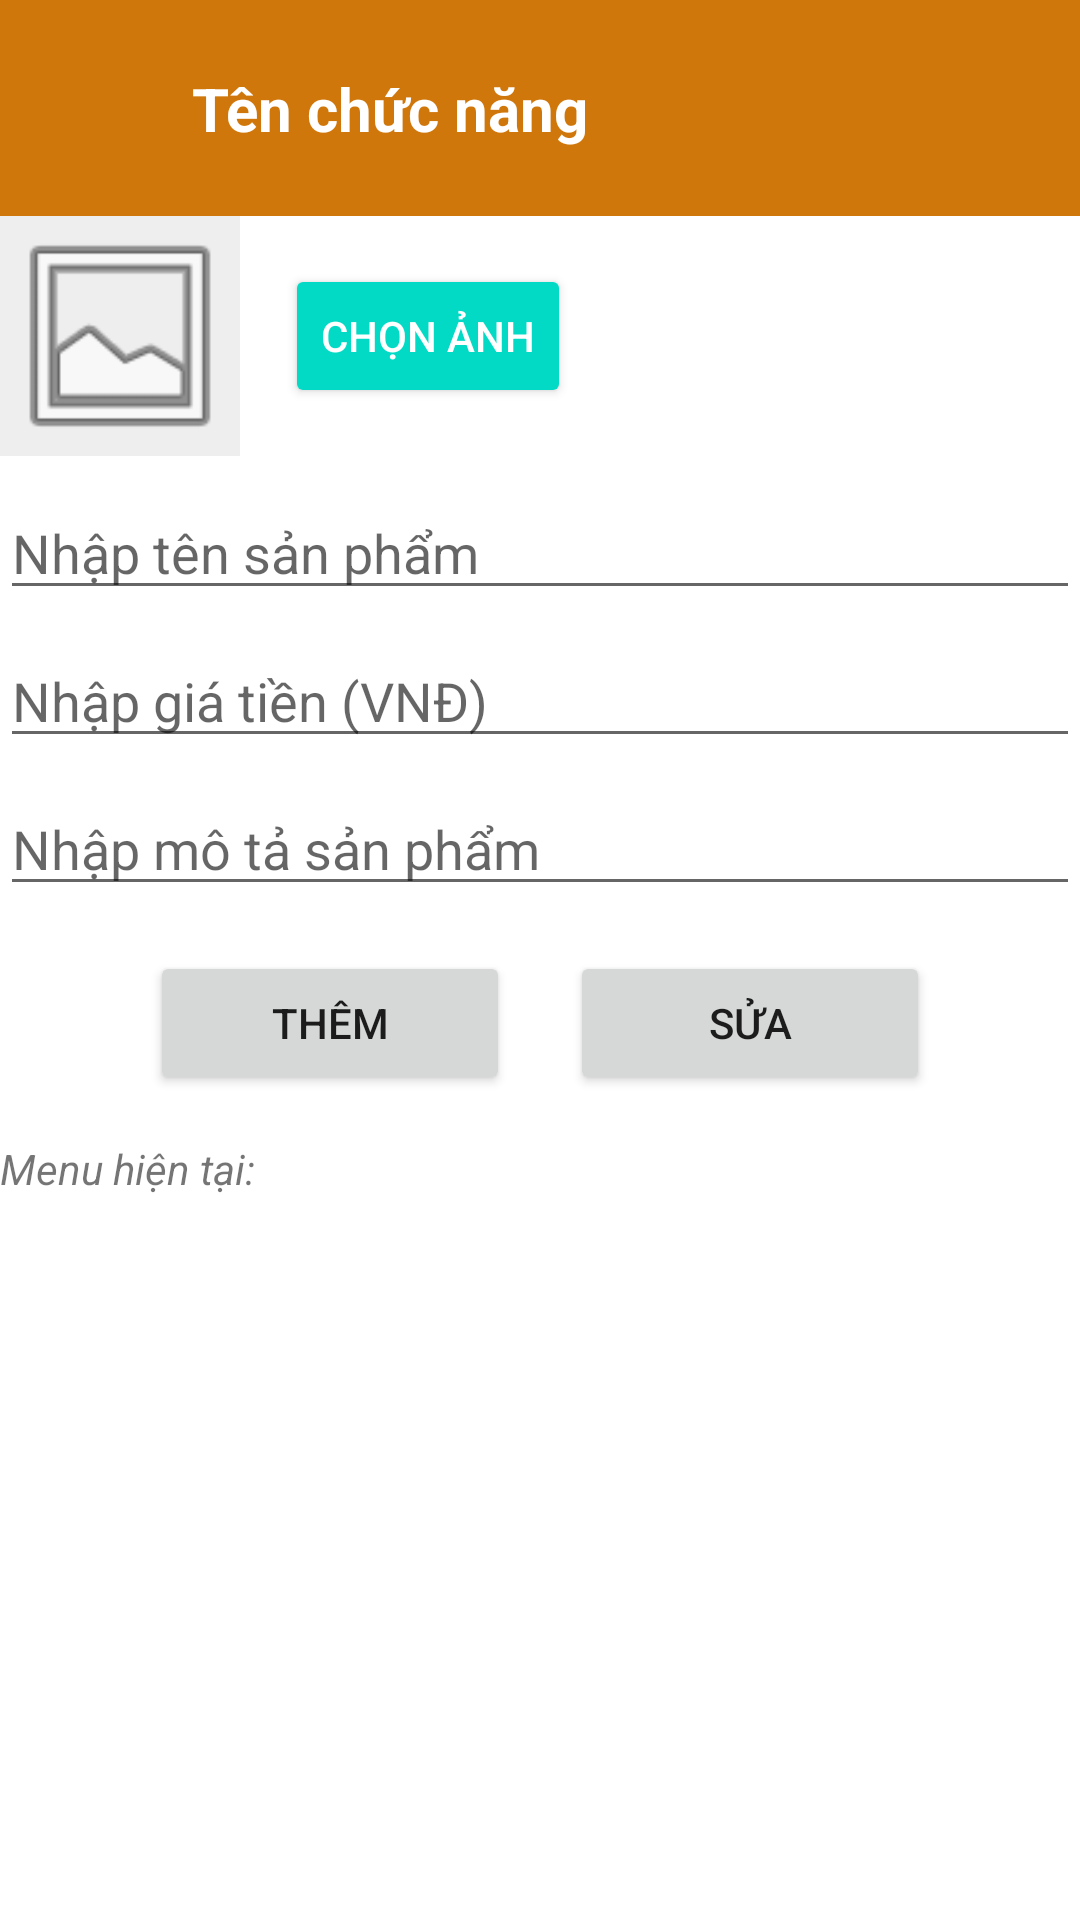

Named icons in this screenshot (1080px×1920px) and their bounding boxes, (x1, y1, x2, y2):
gallery: (0, 216, 240, 456)
